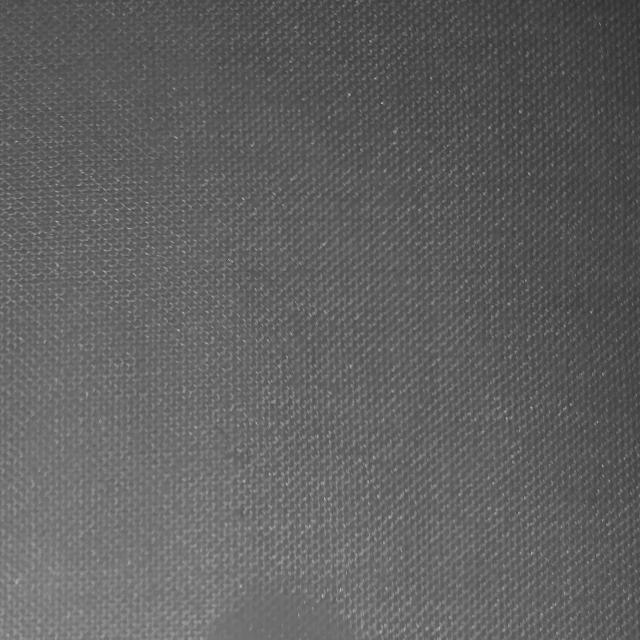Stain: (209, 593, 356, 640)
